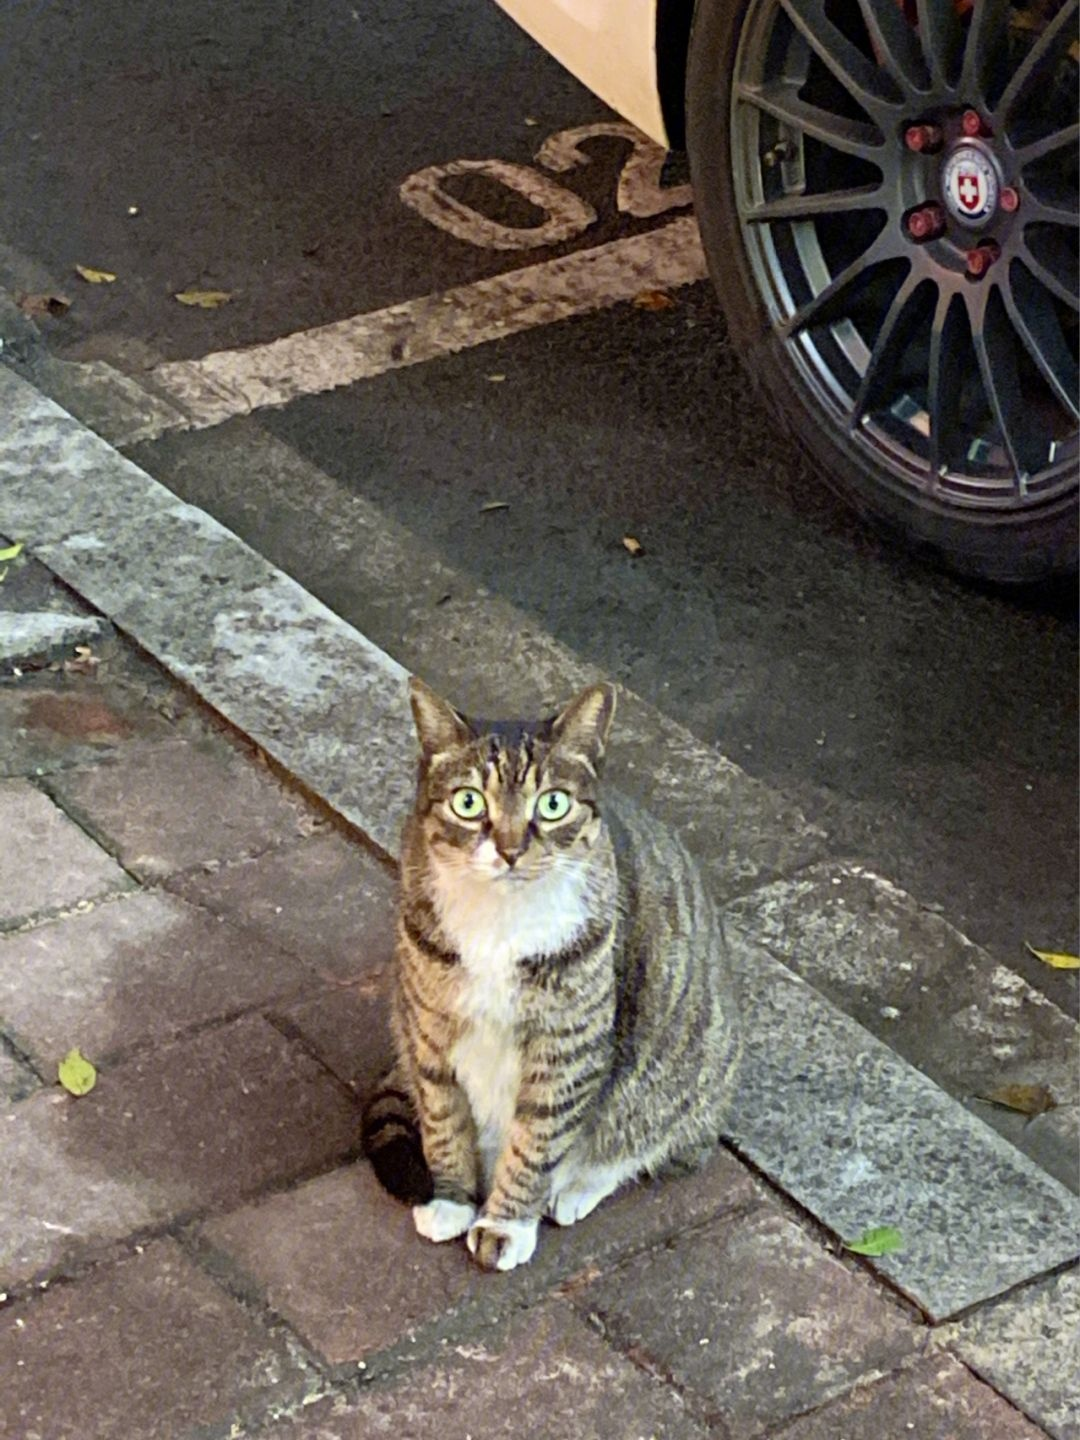cat: (355, 675, 741, 1269)
